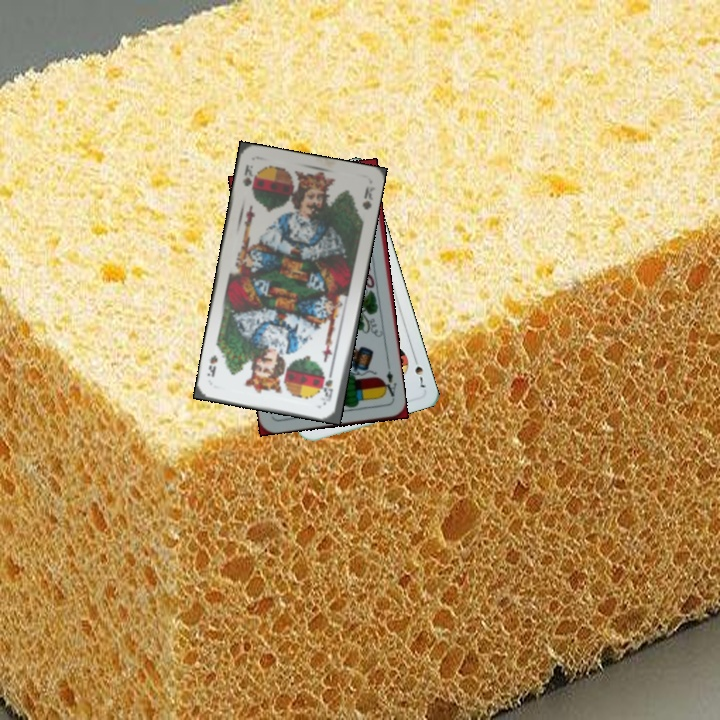EA: (378, 362, 399, 403)
S7: (409, 352, 428, 390)
SK: (319, 365, 336, 405), (238, 160, 258, 193)
